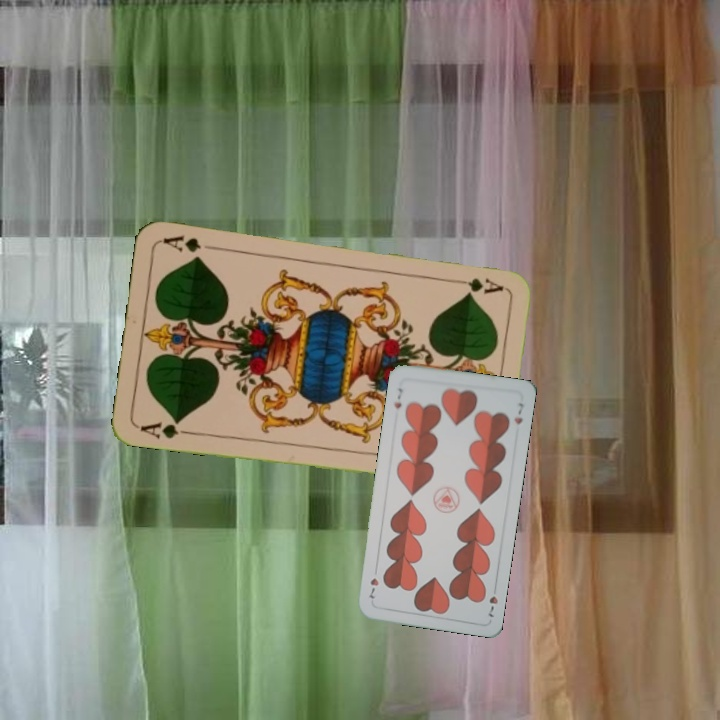GA: (136, 416, 195, 441), (447, 274, 506, 297)
H7: (484, 581, 501, 620), (390, 384, 406, 411)
